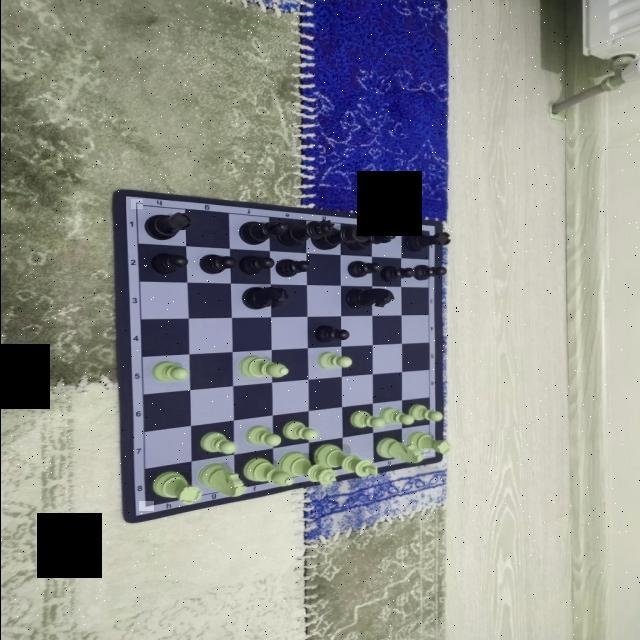chess-table-corners: (138, 501, 153, 511), (130, 200, 142, 210), (423, 226, 433, 236), (423, 448, 433, 456)
